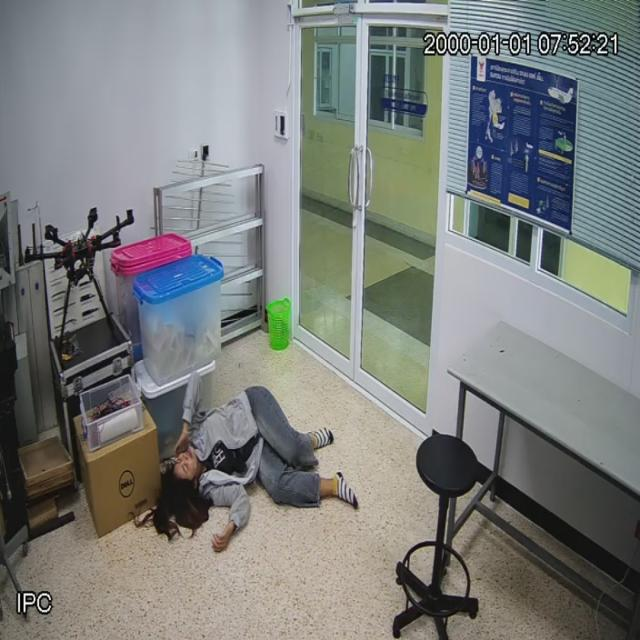fall: (165, 380, 360, 548)
